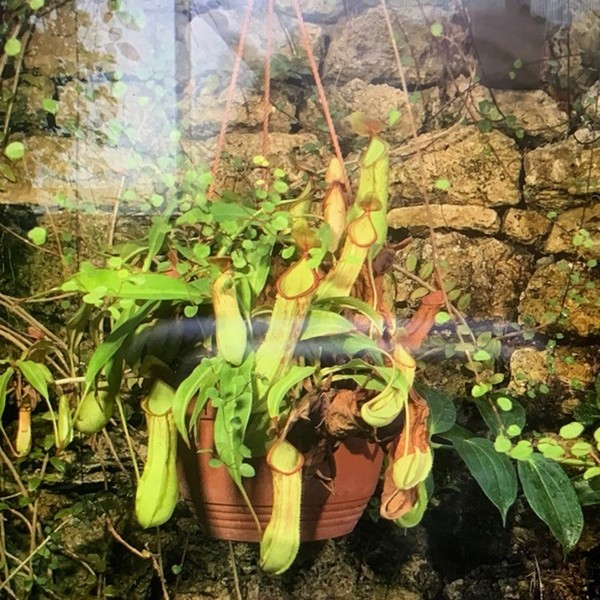obstacle: (35, 168, 414, 549)
